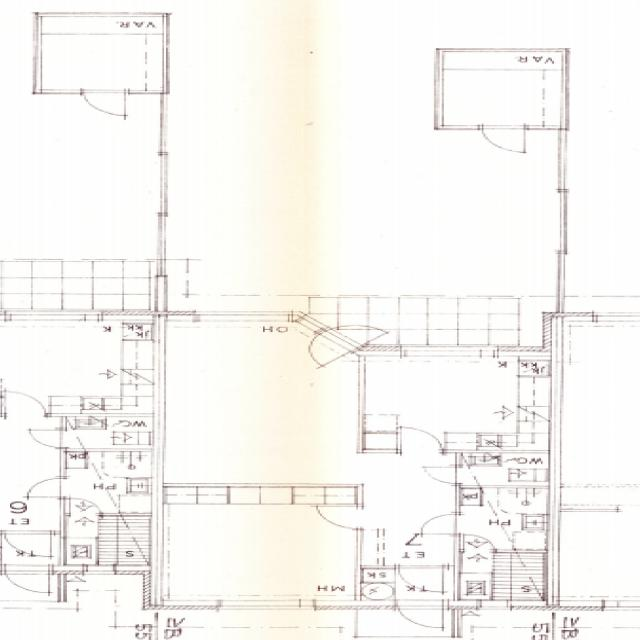door: (318, 311, 391, 351), (288, 328, 361, 368), (396, 600, 441, 633), (398, 564, 441, 590), (312, 506, 359, 528), (481, 126, 522, 151), (400, 428, 440, 452), (419, 514, 459, 533), (463, 532, 492, 551), (423, 467, 459, 482)
